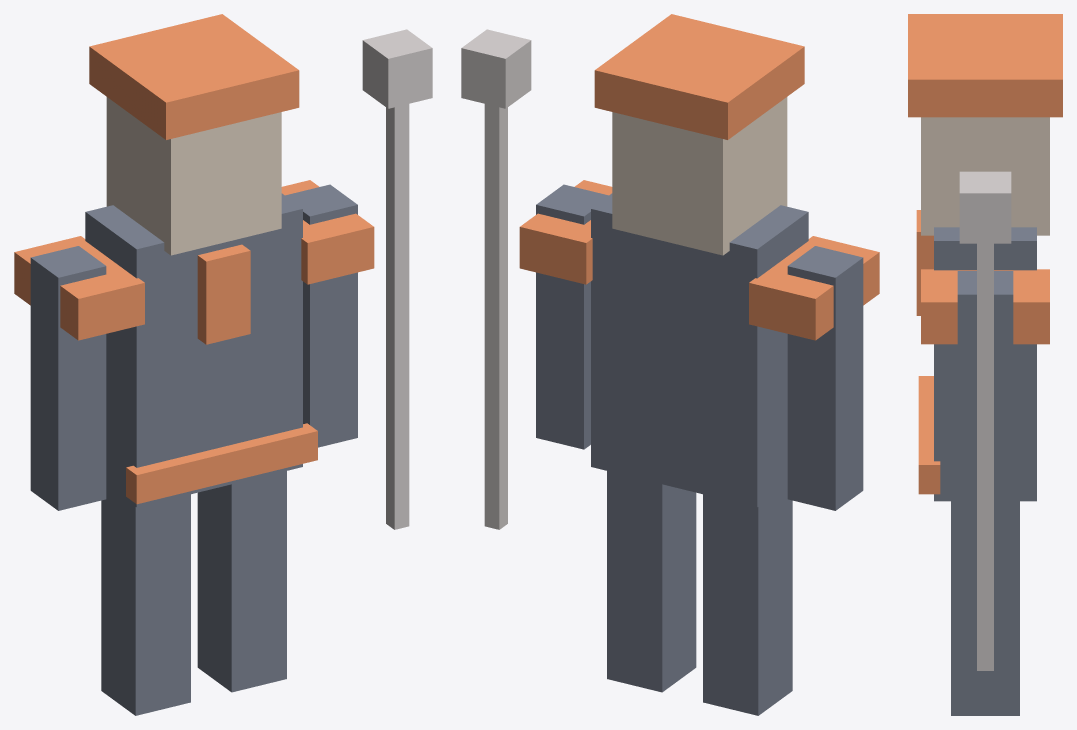
File: 10_thorne_cinderholt_herald_at_ter.glb
3 renders of one model, left to right at view 1: azimuth 30°, elevation 25°; view 2: azimuth 150°, elevation 25°; view 3: azimuth 270°, elevation 25°, orthographic.
Visible parts, largest first — view 1: Thorne Cinderholt, Herald at Ter; view 2: Thorne Cinderholt, Herald at Ter; view 3: Thorne Cinderholt, Herald at Ter.
Part boxes in pixels (<box>): Thorne Cinderholt, Herald at Ter: <box>14,14,432,715</box>; Thorne Cinderholt, Herald at Ter: <box>461,14,879,715</box>; Thorne Cinderholt, Herald at Ter: <box>908,14,1062,715</box>.
Bounding box in the file's own units: 1.03 × 1.64 × 0.3638.
